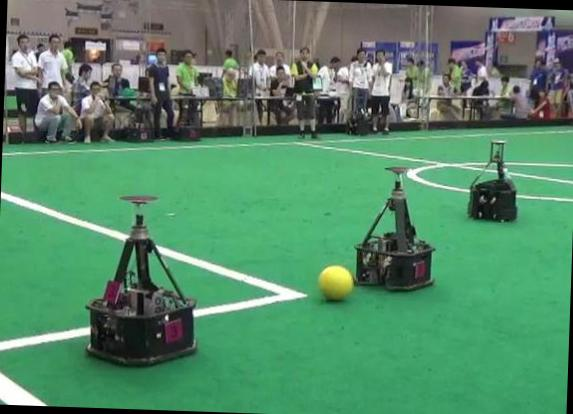ball: (317, 265, 352, 299)
person: (291, 46, 317, 137), (147, 48, 173, 138)
robot: (86, 196, 195, 364), (355, 167, 432, 289), (467, 140, 516, 220)
